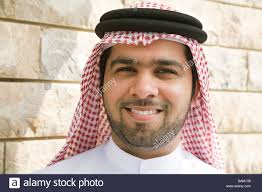middle_eastern_male: (106, 33, 196, 146)
